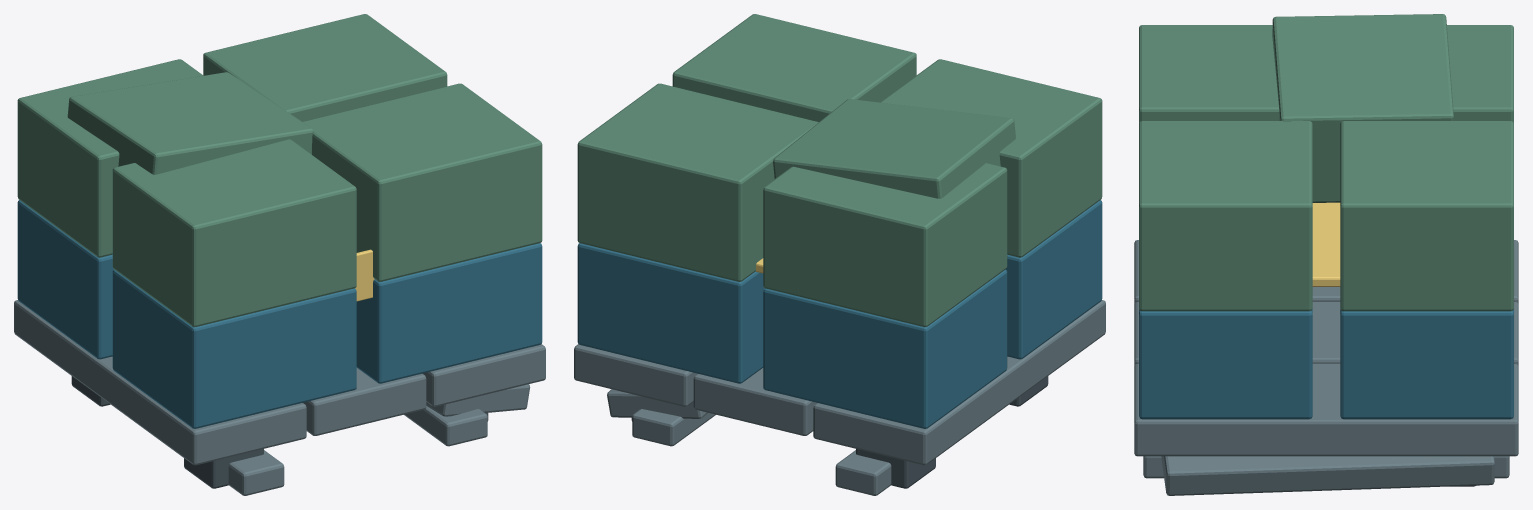
File: pallet_stack_d1.glb
3 views of the same model, side by side, from view 1: azimuth 30°, elevation 25°; view 2: azimuth 150°, elevation 25°; view 3: azimuth 270°, elevation 25° (orthographic). The views are drawn at different scales.
Visible parts, largest first — view 1: Stacked crate.036, Stacked crate.038, Stacked crate.032, Stacked crate.034, Shifted load.001, Stacked crate.039, Stacked crate.037, Pallet deck board.015, Stacked crate.033, Pallet deck board.016, Pallet deck board.017, Pallet runner.009 (+4 smaller); view 2: Stacked crate.039, Stacked crate.037, Stacked crate.033, Stacked crate.035, Stacked crate.036, Stacked crate.038, Shifted load.001, Pallet deck board.015, Stacked crate.032, Pallet deck board.016, Pallet deck board.017, Pallet runner.008 (+3 smaller); view 3: Stacked crate.038, Stacked crate.039, Shifted load.001, Stacked crate.034, Stacked crate.035, Pallet deck board.017, Stacked crate.036, Bent deck board.001, Stacked crate.037, Load wrap.004, Pallet deck board.016, Pallet deck board.015 (+1 smaller).
Part boxes in pixels (x1=…): Stacked crate.036: x1=112, y1=139, x2=356, y2=327; Stacked crate.038: x1=302, y1=83, x2=542, y2=281; Stacked crate.032: x1=112, y1=269, x2=356, y2=428; Stacked crate.034: x1=356, y1=243, x2=542, y2=383; Shifted load.001: x1=67, y1=72, x2=313, y2=174; Stacked crate.039: x1=203, y1=14, x2=447, y2=121; Stacked crate.037: x1=17, y1=59, x2=203, y2=257; Pallet deck board.015: x1=14, y1=300, x2=306, y2=465; Stacked crate.033: x1=17, y1=200, x2=113, y2=359; Pallet deck board.016: x1=303, y1=368, x2=426, y2=435; Pallet deck board.017: x1=423, y1=344, x2=545, y2=406; Pallet runner.009: x1=404, y1=406, x2=487, y2=446; Stacked crate.039: x1=577, y1=83, x2=818, y2=281; Stacked crate.037: x1=763, y1=163, x2=1007, y2=327; Stacked crate.033: x1=763, y1=269, x2=1007, y2=428; Stacked crate.035: x1=577, y1=243, x2=764, y2=383; Stacked crate.036: x1=880, y1=59, x2=1102, y2=257; Stacked crate.038: x1=672, y1=14, x2=916, y2=121; Shifted load.001: x1=773, y1=99, x2=1015, y2=198; Pallet deck board.015: x1=813, y1=300, x2=1105, y2=465; Stacked crate.032: x1=1006, y1=200, x2=1102, y2=359; Pallet deck board.016: x1=693, y1=368, x2=816, y2=435; Pallet deck board.017: x1=574, y1=344, x2=696, y2=406; Pallet runner.008: x1=835, y1=450, x2=891, y2=495; Stacked crate.038: x1=1139, y1=121, x2=1312, y2=311; Stacked crate.039: x1=1340, y1=121, x2=1513, y2=311; Shifted load.001: x1=1272, y1=14, x2=1453, y2=202; Stacked crate.034: x1=1139, y1=309, x2=1312, y2=419; Stacked crate.035: x1=1340, y1=309, x2=1513, y2=419; Pallet deck board.017: x1=1134, y1=363, x2=1518, y2=456; Stacked crate.036: x1=1139, y1=25, x2=1279, y2=122; Bent deck board.001: x1=1161, y1=456, x2=1494, y2=495; Stacked crate.037: x1=1447, y1=25, x2=1513, y2=122; Load wrap.004: x1=1312, y1=202, x2=1340, y2=286; Pallet deck board.016: x1=1134, y1=302, x2=1518, y2=365; Pallet deck board.015: x1=1134, y1=240, x2=1518, y2=303.
Bounding box in the file's own units: 2.36 × 1.95 × 2.1.
